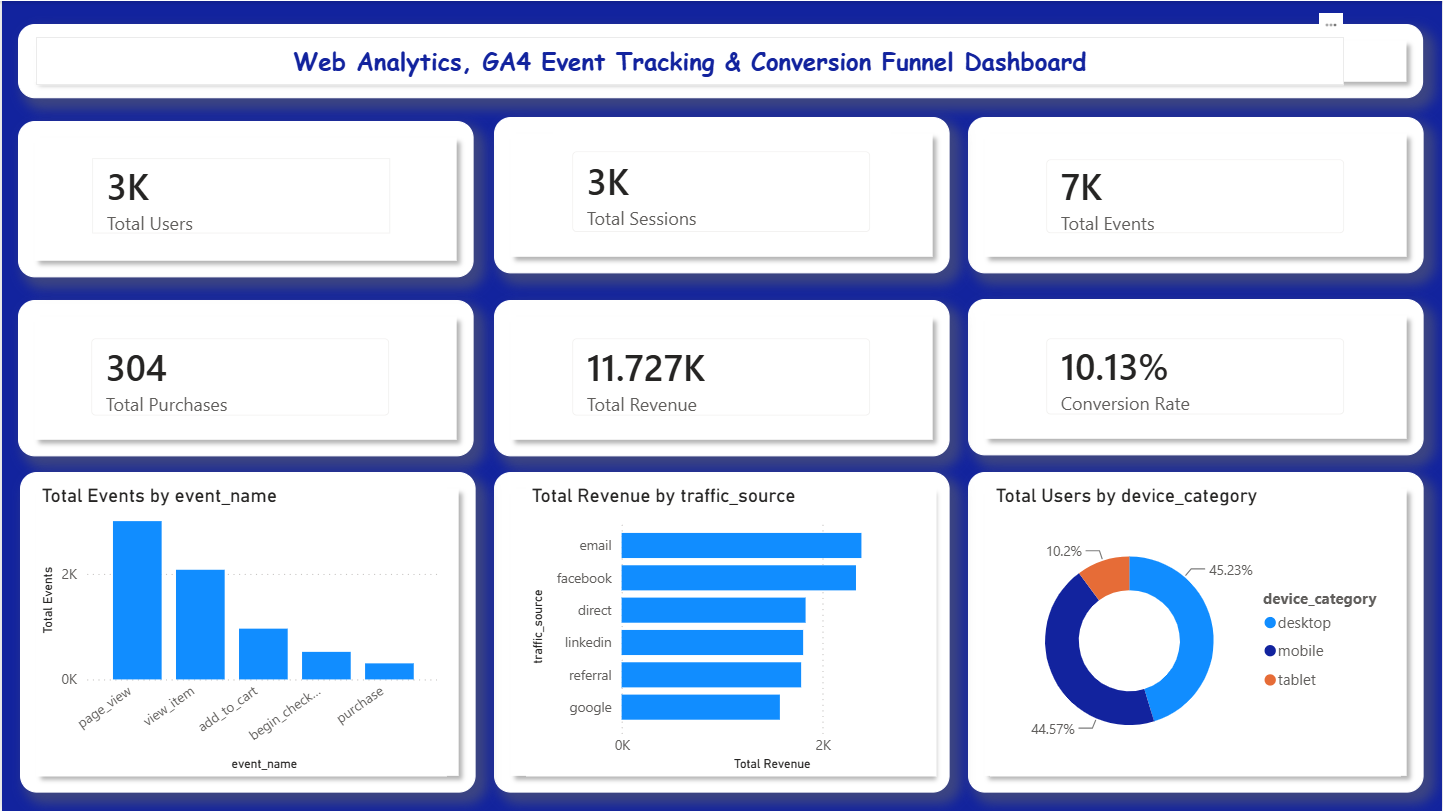

The page's visual inventory and layout, read from the dashboard file:
{"tool":"powerbi","page":{"name":"Executive Overview","canvas":[1280,720],"ordinal":0},"visuals":[{"type":"shape","box":[14.6,20.4,1248.9,66.1],"z":0},{"type":"shape","box":[858.8,264.6,404.6,139.1],"z":1000},{"type":"shape","box":[858.8,103.1,404.6,139.1],"z":2000},{"type":"shape","box":[437.7,265.5,404.6,139.1],"z":3000},{"type":"shape","box":[437.7,103.1,404.6,139.1],"z":4000},{"type":"shape","box":[14.6,265.5,404.6,139.1],"z":5000},{"type":"shape","box":[14.6,107,404.6,139],"z":6000},{"type":"shape","box":[858.8,418.3,404.6,285],"z":7000},{"type":"shape","box":[437.7,418.3,404.6,285],"z":8000},{"type":"shape","box":[15.6,418.3,404.6,285],"z":9000},{"type":"cardVisual","fields":{"Data":["Measure.Total Users"]},"box":[63.2,122.6,299.6,101.2],"z":10000},{"type":"cardVisual","fields":{"Data":["Measure.Total Sessions"]},"box":[490.2,116.7,299.6,107],"z":11000},{"type":"cardVisual","fields":{"Data":["Measure.Total Events"]},"box":[911.4,123.5,299.6,100.2],"z":12000},{"type":"cardVisual","fields":{"Data":["Measure.Total Purchases"]},"box":[62.2,283,299.6,103.1],"z":13000},{"type":"cardVisual","fields":{"Data":["Measure.Total Revenue"]},"box":[490.2,283,299.6,103.1],"z":14000},{"type":"cardVisual","fields":{"Data":["Measure.Conversion Rate"]},"box":[911.4,283,299.6,102.1],"z":15000},{"type":"clusteredColumnChart","title":"Events by Events Name","fields":{"Category":["ga4_cleaned_event_data.event_name"],"Y":["Measure.Total Events"]},"box":[30.2,429,364.7,259.7],"z":16000},{"type":"clusteredBarChart","title":"Revenue by Traffic Source","fields":{"Category":["ga4_cleaned_event_data.traffic_source"],"Y":["Measure.Total Revenue"]},"box":[465.9,429,364.7,259.7],"z":17000},{"type":"donutChart","title":"Users by Device","fields":{"Category":["ga4_cleaned_event_data.device_category"],"Y":["Measure.Total Users"]},"box":[878.3,429,364.7,259.7],"z":18000},{"type":"textbox","box":[30.2,32.1,1162.3,42.8],"z":19000}]}

Visuals, with their boxes in screenshot pixels (x1, y1, x2, y2), scaled from the page's 1280x720 canvas onto the 1443x811 screenshot:
shape: bbox=(16, 23, 1424, 97)
shape: bbox=(968, 298, 1424, 455)
shape: bbox=(968, 116, 1424, 273)
shape: bbox=(493, 299, 950, 456)
shape: bbox=(493, 116, 950, 273)
shape: bbox=(16, 299, 473, 456)
shape: bbox=(16, 121, 473, 277)
shape: bbox=(968, 471, 1424, 792)
shape: bbox=(493, 471, 950, 792)
shape: bbox=(18, 471, 474, 792)
cardVisual - Measure.Total Users: bbox=(71, 138, 409, 252)
cardVisual - Measure.Total Sessions: bbox=(553, 131, 890, 252)
cardVisual - Measure.Total Events: bbox=(1027, 139, 1365, 252)
cardVisual - Measure.Total Purchases: bbox=(70, 319, 408, 435)
cardVisual - Measure.Total Revenue: bbox=(553, 319, 890, 435)
cardVisual - Measure.Conversion Rate: bbox=(1027, 319, 1365, 434)
"Events by Events Name" clusteredColumnChart: bbox=(34, 483, 445, 776)
"Revenue by Traffic Source" clusteredBarChart: bbox=(525, 483, 936, 776)
"Users by Device" donutChart: bbox=(990, 483, 1401, 776)
textbox: bbox=(34, 36, 1344, 84)
